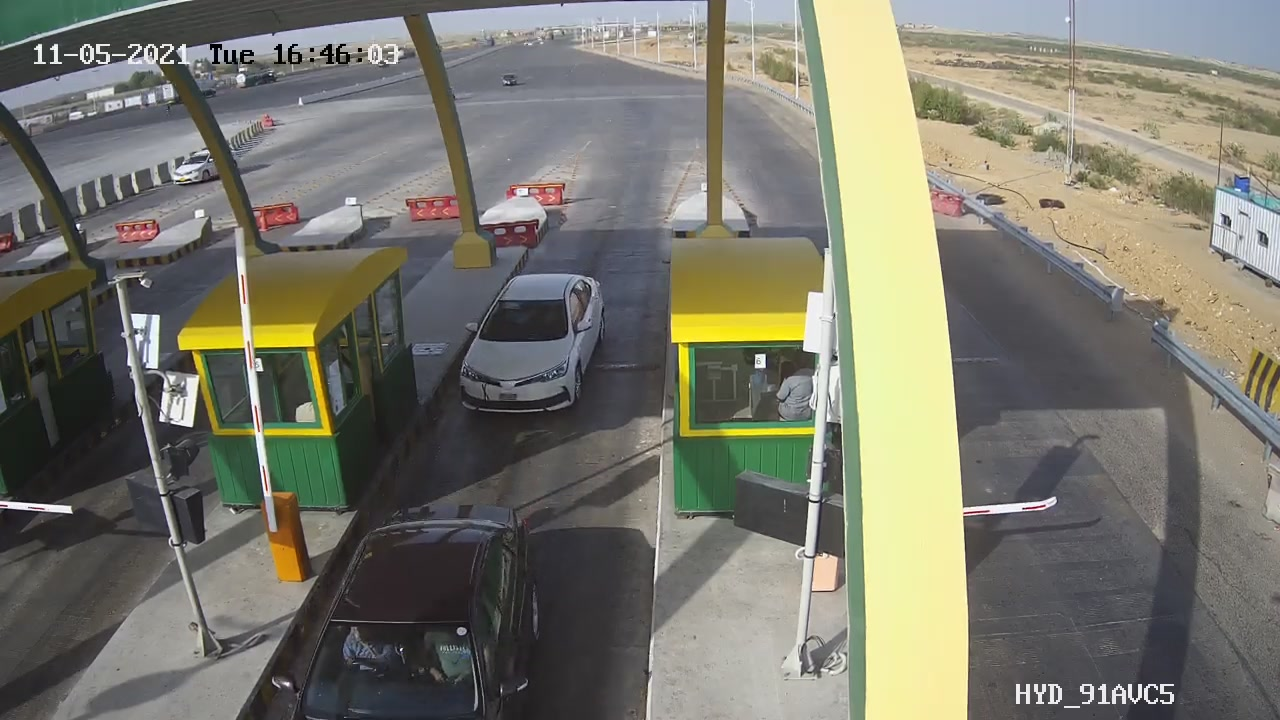F1: (433, 258, 624, 433)
